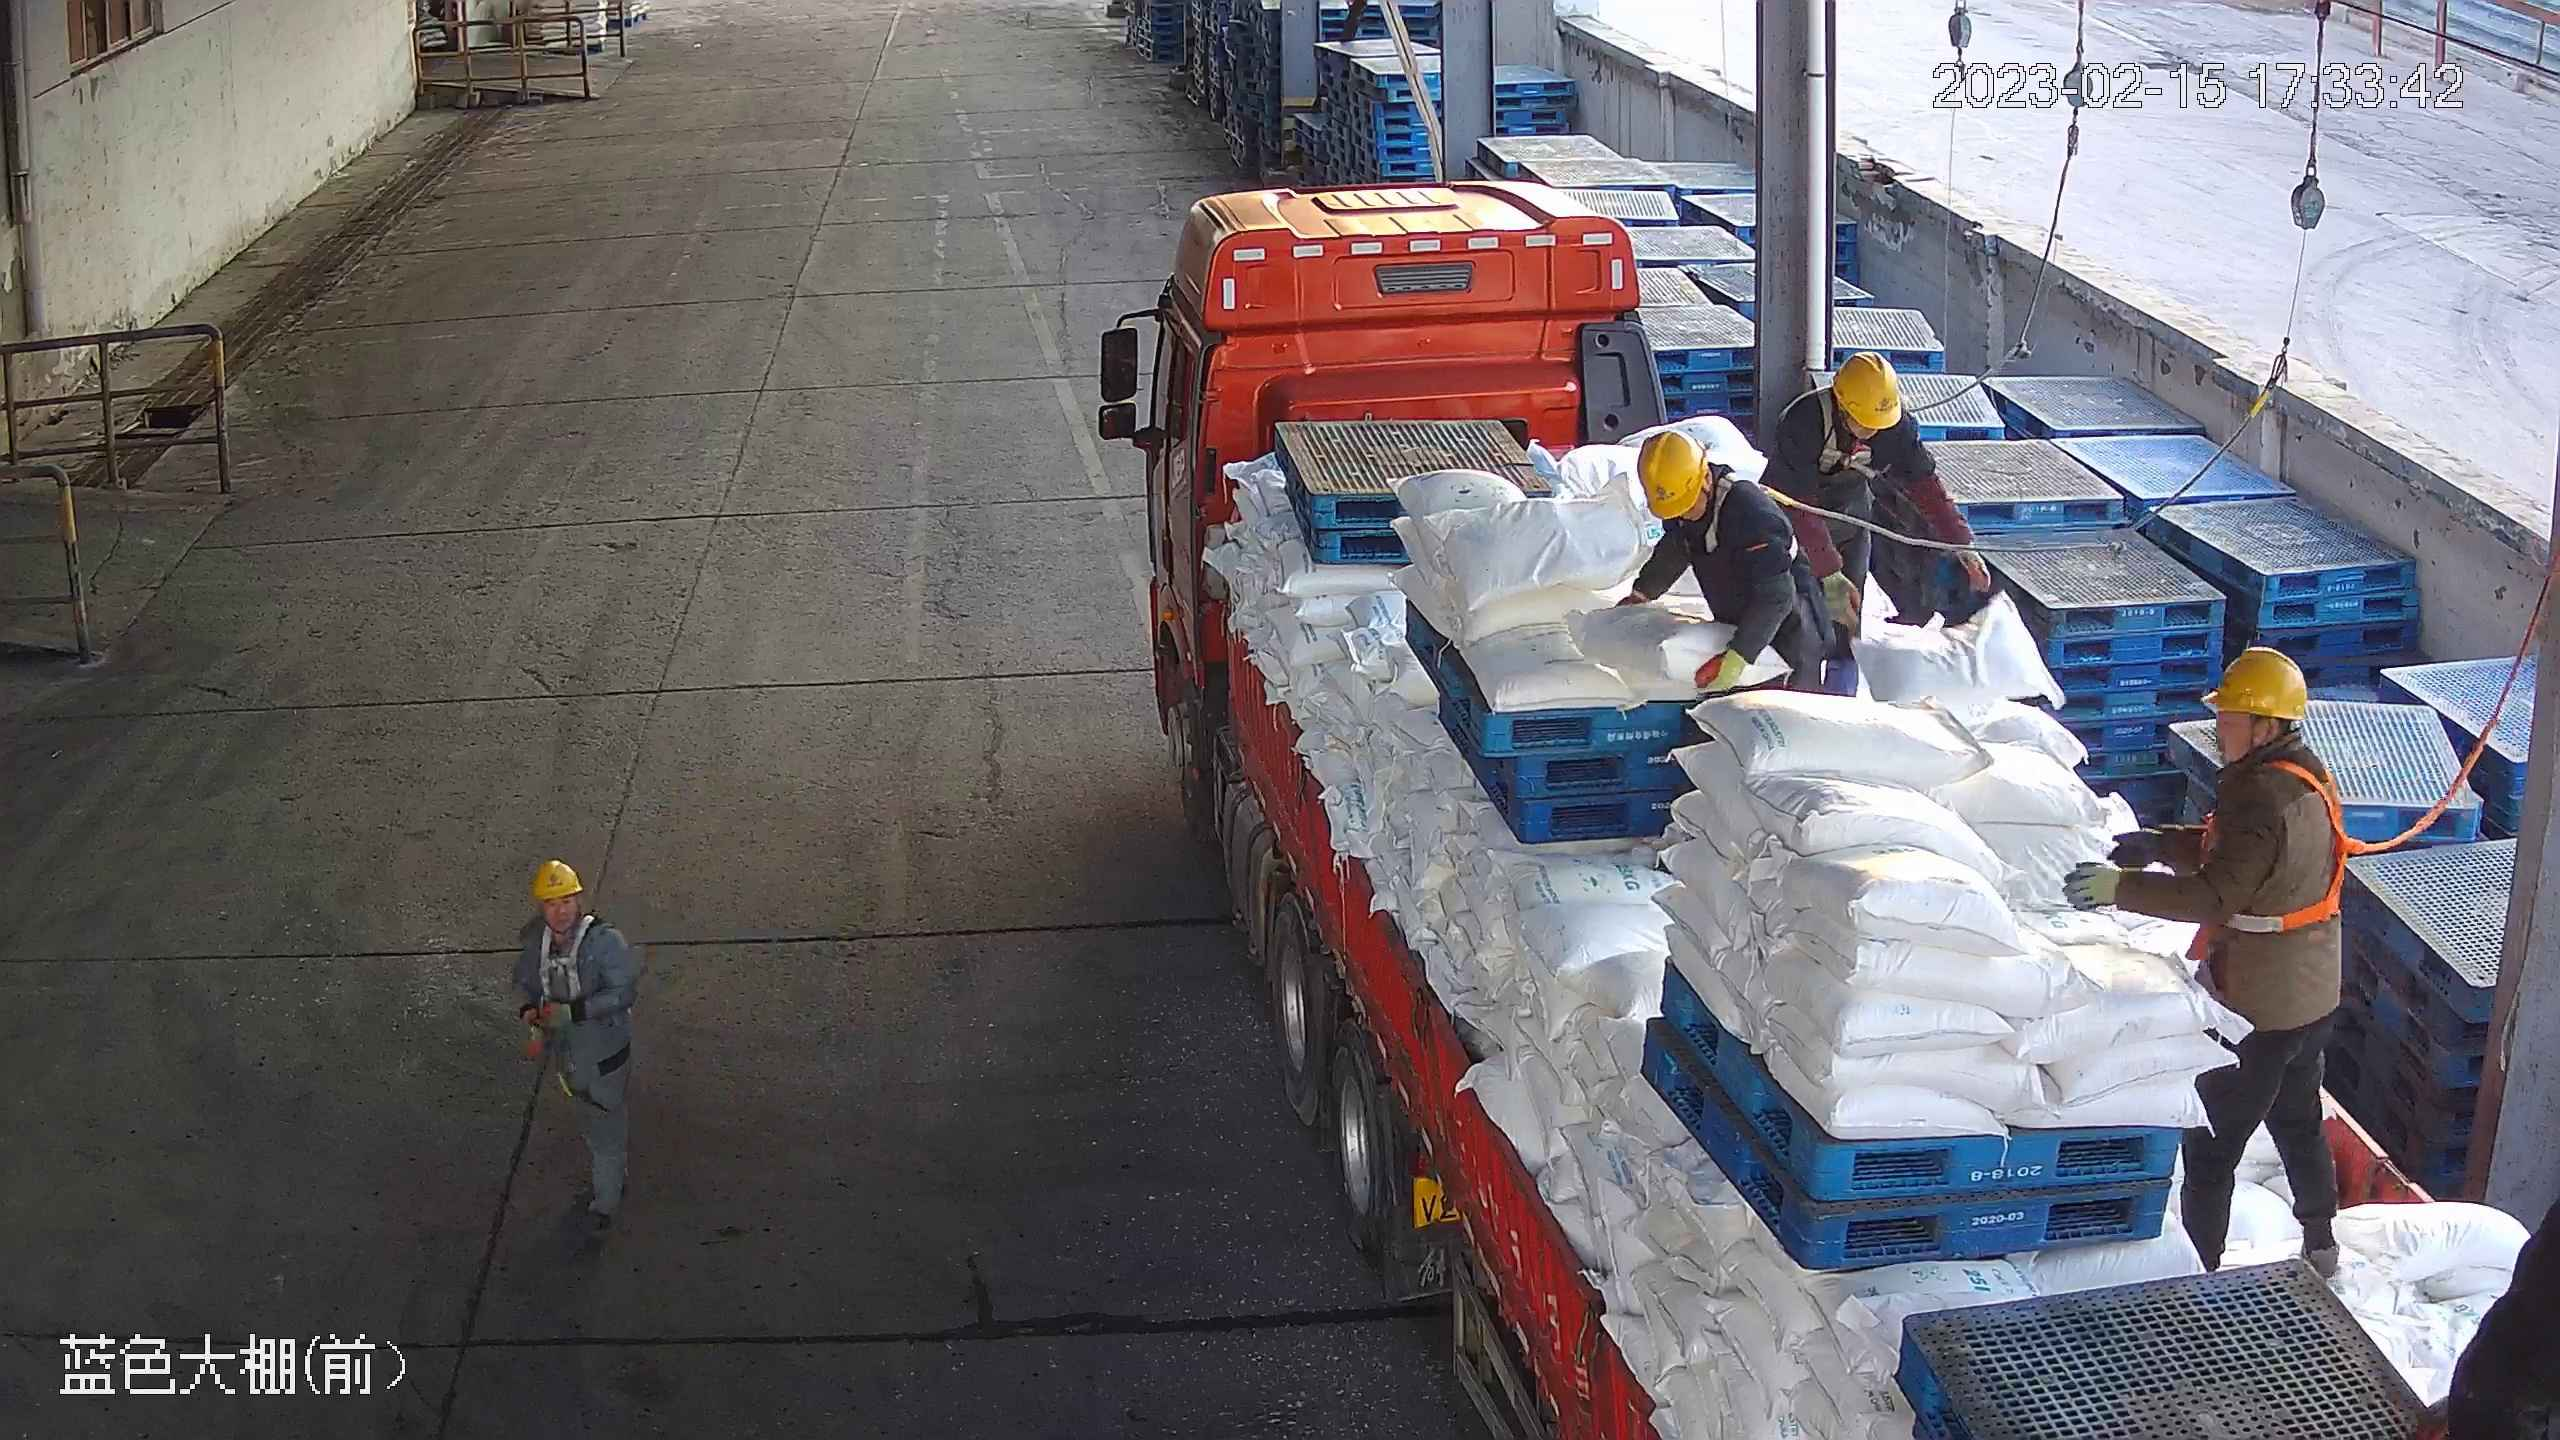belt: (2203, 750, 2374, 938), (1677, 472, 1806, 556), (1810, 391, 1917, 478), (534, 912, 607, 1010)
head: (2201, 642, 2341, 826), (1638, 429, 1795, 545), (1773, 350, 1927, 452), (517, 857, 632, 963)
helmet: (2200, 644, 2310, 723), (1636, 429, 1709, 520), (1831, 348, 1903, 431), (527, 858, 583, 901)
people: (2060, 642, 2348, 1281), (1759, 350, 1992, 696), (1620, 428, 1841, 696), (510, 858, 641, 1232)
truck: (1139, 178, 2560, 1440)
